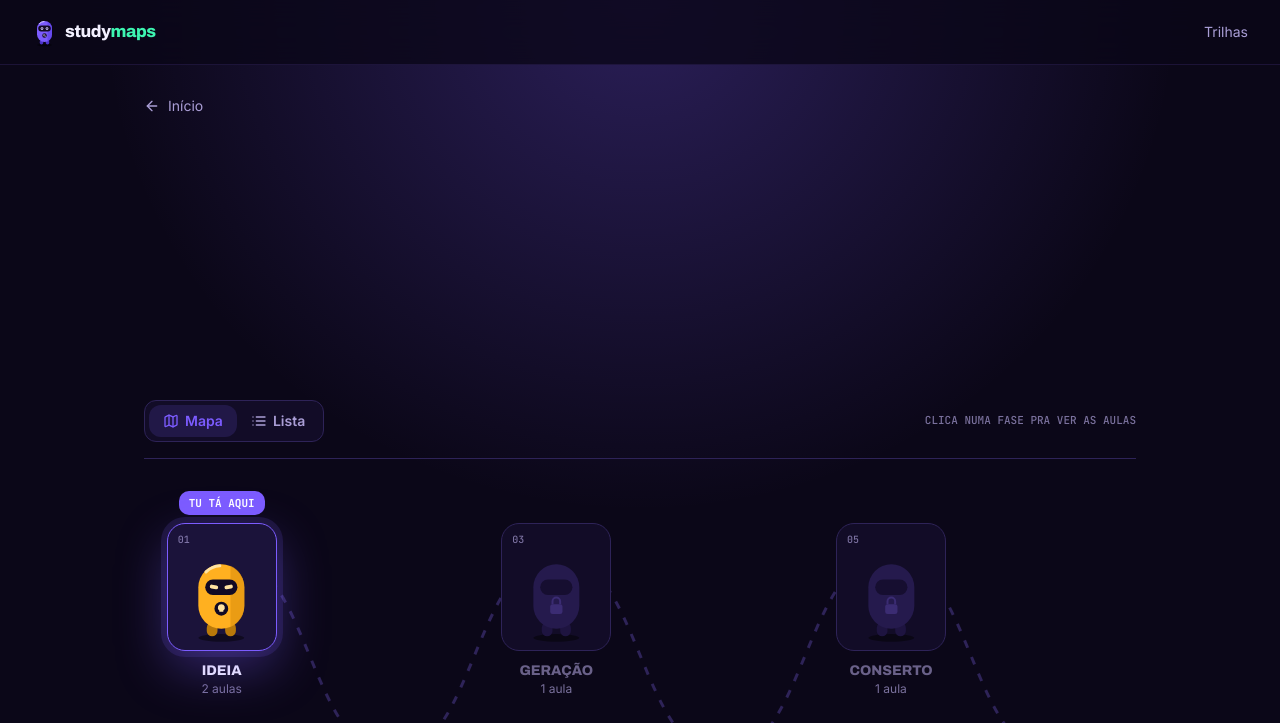
Test: smoke — páginas renderizam sem quebrar › a lista mostra a aula escrita
Click the tab "Lista" at [278, 420], box [237,404,319,436]
(page scrolled)
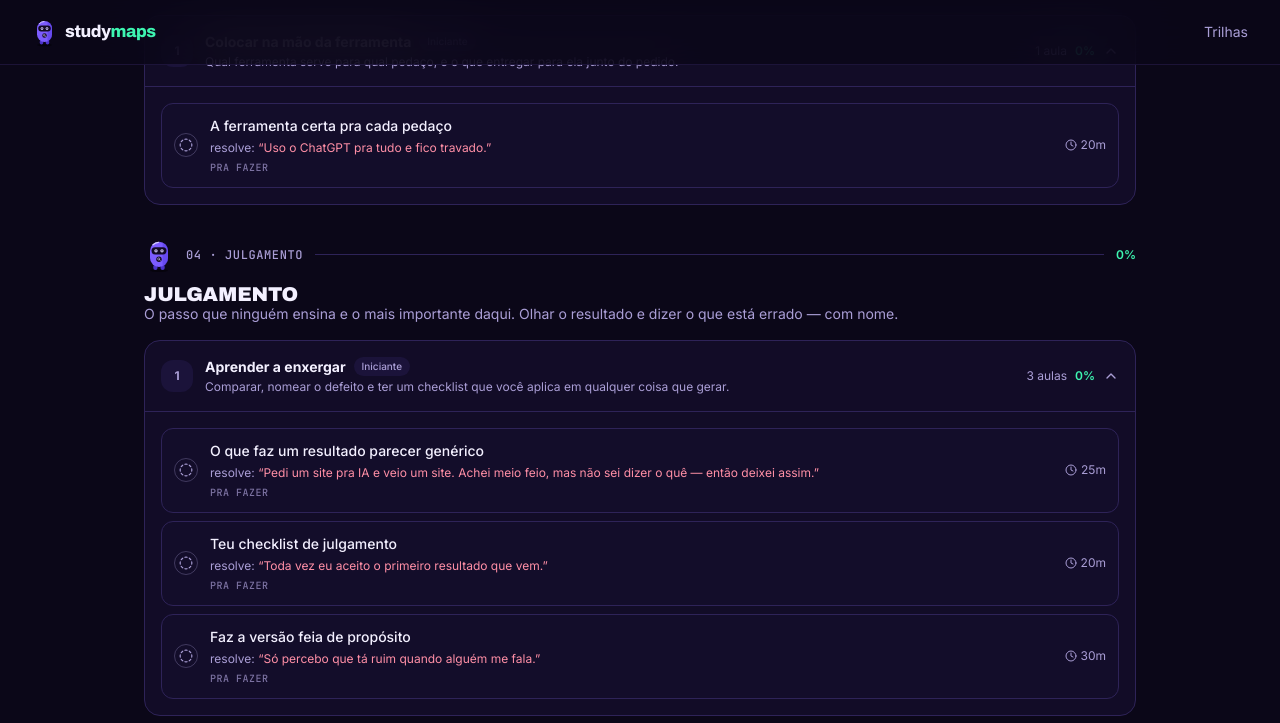
Check: the text "O que faz um resultado parecer genérico" is shown, box [210,442,484,458]
